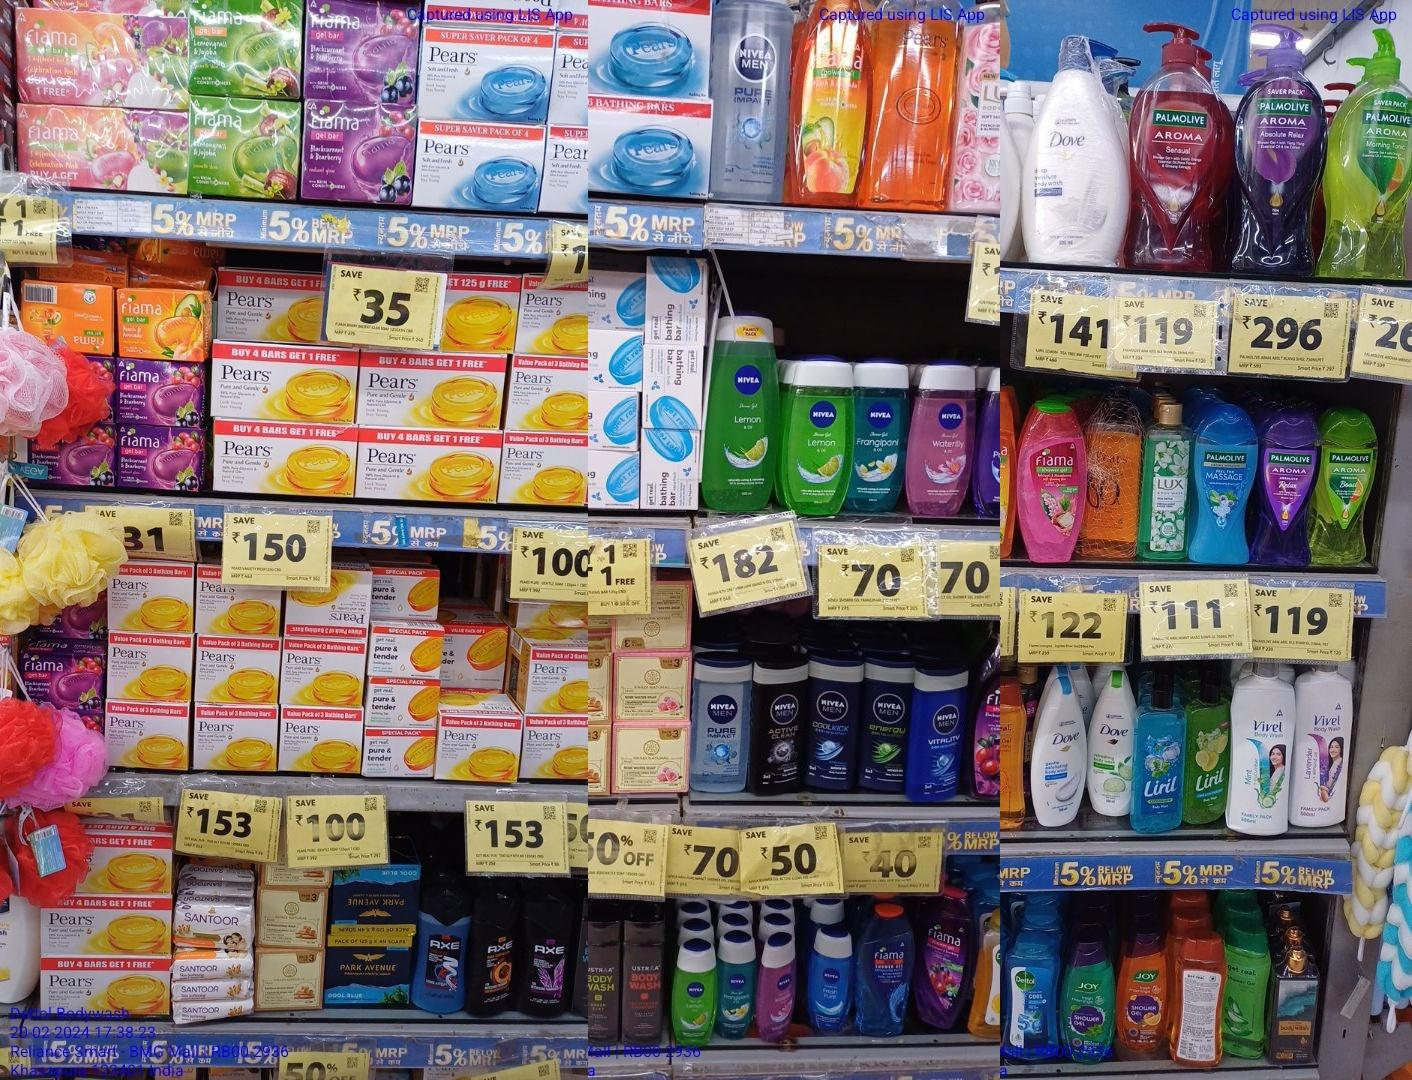Dettol_Bodywash_Cool: (1008, 934, 1059, 1061)
Dove_Gentle_Exfoliating_Body_Wash_250ML: (1033, 682, 1087, 826)
Dove_Refreshing_Body_Wash_250ML: (1091, 672, 1131, 817)
Fiama_Shower_Gel_Patchouli_and_Macadamia_250ML: (1018, 396, 1083, 563)
Joy_Shower_Gel_Mandarin_and_Lemongrass_250ML: (1119, 935, 1167, 1051)
Joy_Shower_Gel_Mint_and_Eucalyptus_250ML: (1063, 938, 1113, 1062)
Liril_Cooling_Mint_Body_Wash_250ML: (1134, 683, 1182, 833)
Liril_Lime_and_Tea_Tree_Oil_Body_Wash_250ML: (1189, 677, 1225, 822)
Lux_Body_Wash_Skin_Detox_Freesia_Scent_and_Alove_Vera_245ML: (1140, 397, 1190, 560)
Nivea_Shower_Gel_Frangipani_and_Oil_250ML: (856, 361, 907, 512)
Nivea_Shower_Gel_Lemon_and_Oil_250ML: (707, 315, 780, 509), (786, 360, 852, 515)
Nivea_Shower_Gel_Waterlily_and_Oil_250ML: (915, 362, 975, 516)
Palmolive_Aroma_Moments_Feel_The_Massage_Shower_Gel_250ML: (1194, 405, 1251, 564)
Palmolive_Aroma_Relax_250ML: (1260, 406, 1313, 567)
